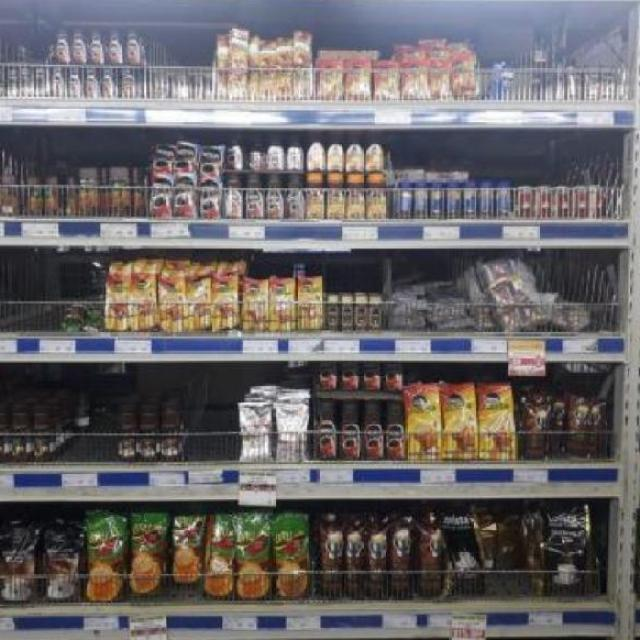Coffee: (157, 277, 186, 331), (106, 274, 132, 330), (212, 276, 238, 330), (316, 399, 339, 460), (339, 402, 362, 462), (297, 278, 323, 330), (132, 275, 157, 329), (187, 278, 212, 332), (271, 278, 296, 330), (243, 280, 268, 331), (363, 402, 384, 462), (385, 402, 406, 461), (173, 176, 196, 217), (224, 173, 244, 220), (346, 62, 370, 101), (150, 176, 172, 217), (318, 62, 341, 100), (405, 63, 428, 101), (375, 63, 398, 101), (367, 174, 386, 220), (264, 175, 283, 220), (346, 174, 364, 220), (246, 173, 264, 218), (327, 174, 345, 219), (306, 174, 323, 221), (451, 59, 474, 93), (200, 178, 220, 217), (346, 132, 365, 173), (366, 131, 385, 172), (430, 63, 451, 100), (287, 175, 304, 220), (153, 142, 175, 176), (306, 131, 325, 170), (175, 142, 197, 174), (328, 131, 345, 172), (200, 146, 224, 175), (247, 134, 265, 169), (287, 133, 304, 170), (228, 133, 244, 169), (268, 134, 284, 170), (71, 29, 86, 63), (354, 296, 367, 332), (126, 33, 140, 65), (371, 297, 383, 333), (56, 31, 69, 64), (109, 31, 122, 63), (90, 32, 103, 64), (340, 296, 352, 330), (327, 296, 339, 330), (122, 69, 136, 97), (68, 69, 81, 98), (101, 68, 114, 96), (85, 69, 97, 98), (52, 68, 64, 96)
